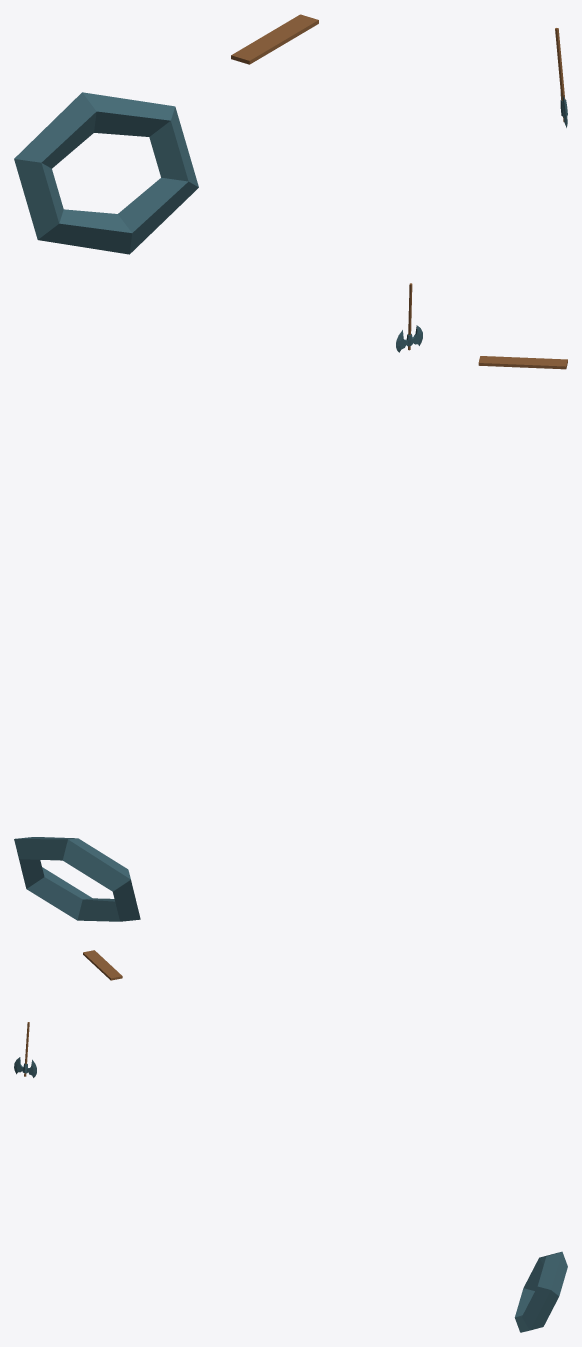
3 views of the same model, one above another, from view 1: azimuth 30°, elevation 25°; view 2: azimuth 150°, elevation 25°; view 3: azimuth 270°, elevation 25° (orthographic). The views are drawn at different scales.
Visible parts, largest first — view 1: Torus080_metal_0, Object060_brown_0, Line1390_brown_0; view 2: Torus080_metal_0, Object060_brown_0; view 3: Torus080_metal_0, Object060_brown_0.
Part boxes in pixels (x1,y1,x2,y2): Torus080_metal_0: [14, 92, 198, 254]; Object060_brown_0: [231, 14, 318, 64]; Line1390_brown_0: [555, 28, 565, 121]; Torus080_metal_0: [14, 837, 140, 921]; Object060_brown_0: [478, 356, 567, 369]; Torus080_metal_0: [514, 1251, 567, 1332]; Object060_brown_0: [83, 950, 122, 980].
Size of the model in its own units: 764 by 1132 by 1838.
